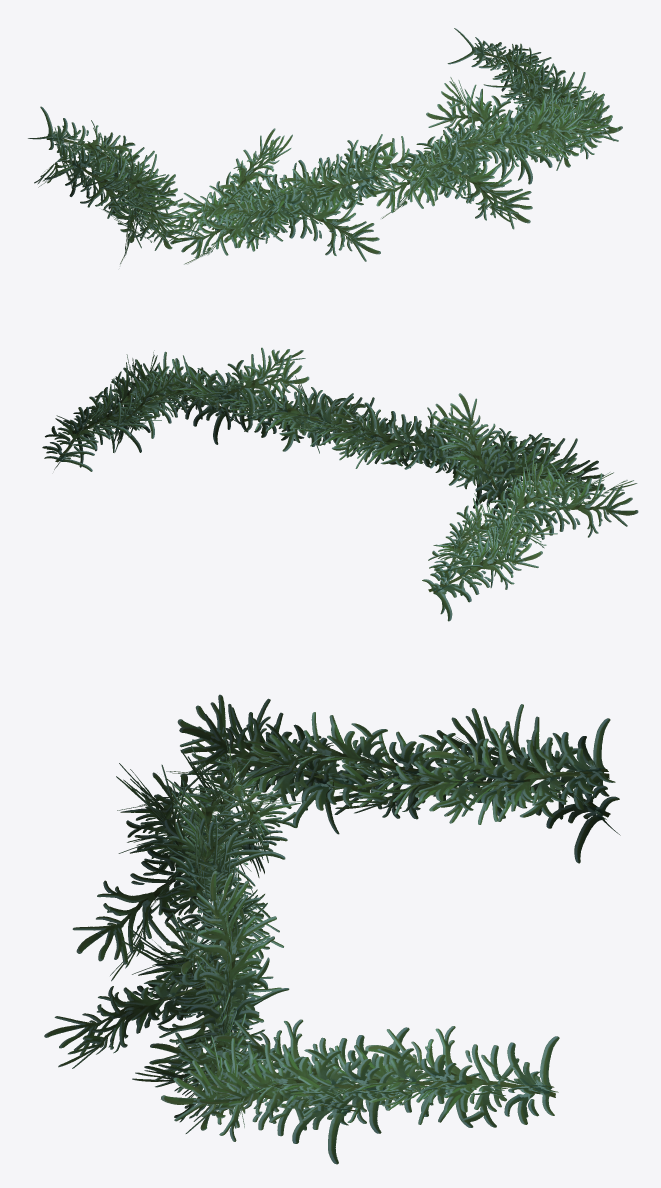
File: SM_Christmas_StoveWreath.fbx
3 views of the same model, one above another, from view 1: azimuth 30°, elevation 25°; view 2: azimuth 150°, elevation 25°; view 3: azimuth 270°, elevation 25° (orthographic). The views are drawn at different scales.
Parts seen in each view (by area): view 1: SM_Christmas_StoveWreath_LOD0; view 2: SM_Christmas_StoveWreath_LOD0; view 3: SM_Christmas_StoveWreath_LOD0.
Boxes of the visible parts, <box> form: SM_Christmas_StoveWreath_LOD0: <box>28,28,622,264</box>; SM_Christmas_StoveWreath_LOD0: <box>42,347,638,621</box>; SM_Christmas_StoveWreath_LOD0: <box>44,694,620,1164</box>.
Bounding box in the file's own units: 307 × 88.8 × 198.
